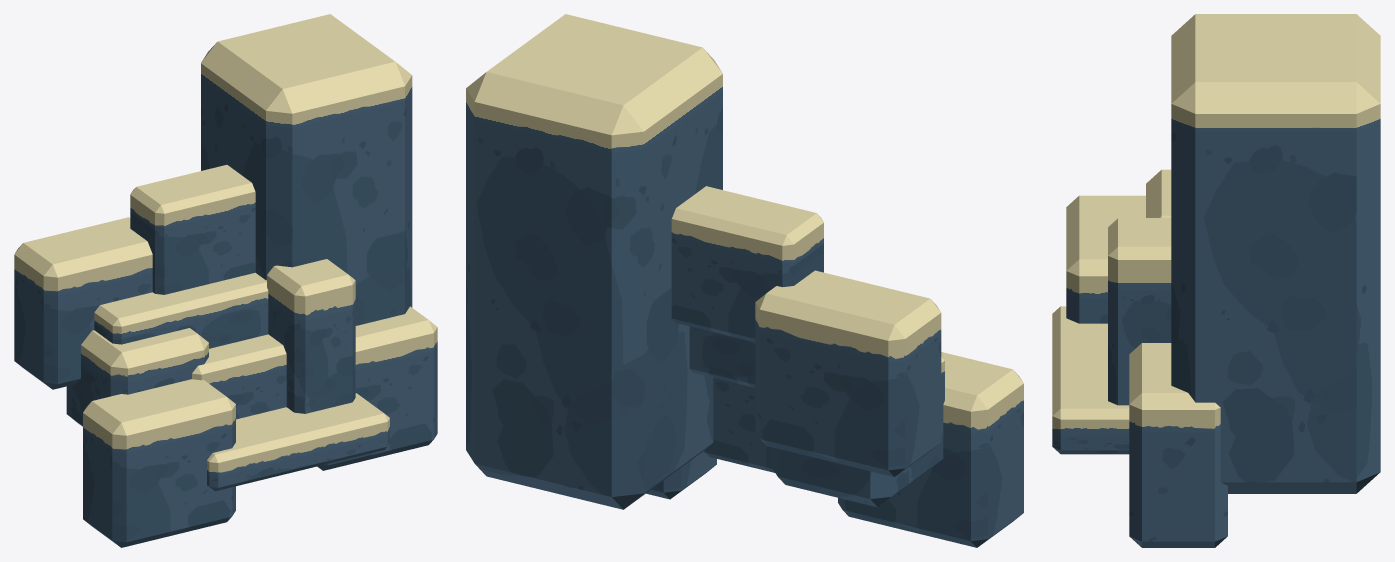
The model's file is M_modul_01_env.fbx.
3 renders of one model, left to right at view 1: azimuth 30°, elevation 25°; view 2: azimuth 150°, elevation 25°; view 3: azimuth 270°, elevation 25°, orthographic. The views are drawn at different scales.
Parts seen in each view (by area): view 1: Cube.001, Cube.003, Cube.005, Cube.002, Cube, Cube.007, Cube.006, Cube.014, Cube.009, Cube.010; view 2: Cube.001, Cube.005, Cube.003, Cube.002, Cube.009, Cube.010, Cube.014, Cube.006; view 3: Cube.001, Cube.006, Cube, Cube.007, Cube.003, Cube.009.
Boxes of the visible parts, box(x1,y1,x2,y2) form: Cube.001: box(201, 14, 412, 325); Cube.003: box(83, 379, 235, 547); Cube.005: box(14, 217, 152, 389); Cube.002: box(130, 165, 255, 294); Cube: box(267, 259, 355, 413); Cube.007: box(207, 393, 389, 491); Cube.006: box(317, 306, 437, 470); Cube.014: box(94, 272, 268, 348); Cube.009: box(66, 328, 208, 426); Cube.010: box(192, 334, 286, 419); Cube.001: box(466, 14, 722, 509); Cube.005: box(755, 270, 941, 476); Cube.003: box(838, 352, 1023, 547); Cube.002: box(671, 186, 823, 342); Cube.009: box(772, 355, 944, 507); Cube.010: box(703, 378, 774, 472); Cube.014: box(689, 326, 755, 387); Cube.006: box(646, 451, 716, 499); Cube.001: box(1171, 14, 1380, 493); Cube.006: box(1129, 343, 1227, 547); Cube: box(1108, 218, 1171, 405); Cube.007: box(1052, 306, 1129, 454); Cube.003: box(1066, 195, 1145, 323); Cube.009: box(1146, 169, 1171, 217).
Bounding box in the file's own units: 40.26 × 40.95 × 26.33.
